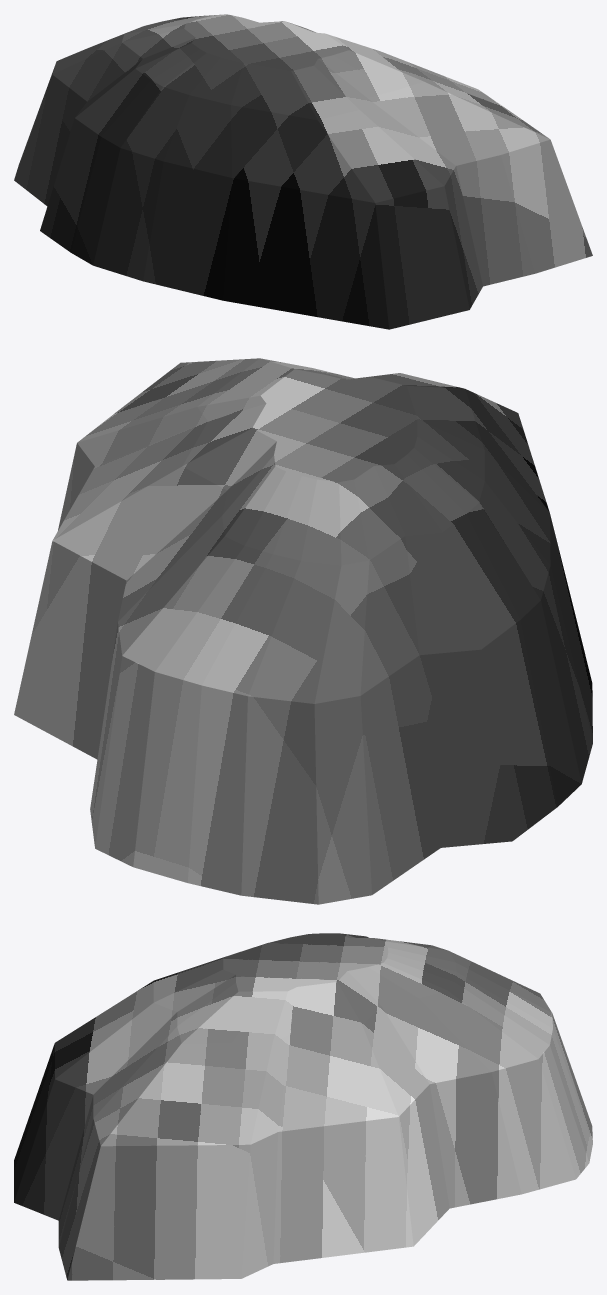
Rendered from Rock_331x01.gltf.
3 renders of one model, top to bottom at view 1: azimuth 30°, elevation 25°; view 2: azimuth 150°, elevation 25°; view 3: azimuth 270°, elevation 25°, orthographic. The views are drawn at different scales.
Visible parts, largest first — view 1: Rock_331x01; view 2: Rock_331x01; view 3: Rock_331x01.
Part boxes in pixels (x1=…): Rock_331x01: x1=14, y1=14, x2=592, y2=329; Rock_331x01: x1=14, y1=358, x2=592, y2=904; Rock_331x01: x1=14, y1=933, x2=592, y2=1280.
Size of the model in its own units: 0.9411 by 0.4337 by 1.12.
Materials: 1 (1 with a texture image).
